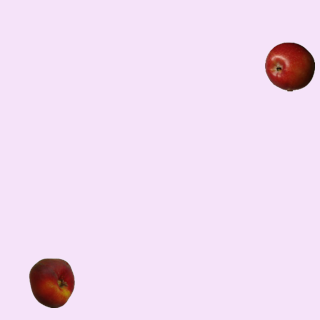Apple Braeburn: (264, 41, 314, 91)
Nectarine Flat: (26, 257, 76, 307)
